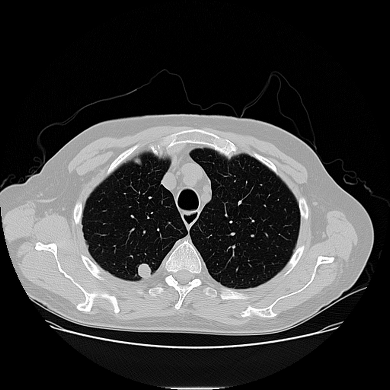nodule: (136, 262, 152, 278)
